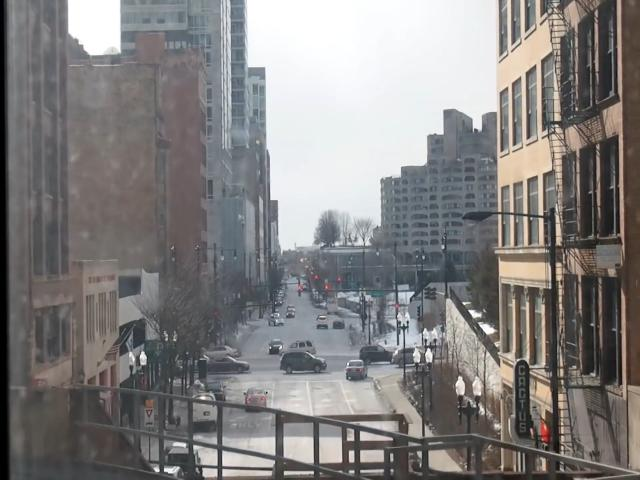signal light: (298, 286, 304, 300), (396, 302, 400, 320), (325, 286, 330, 299), (315, 275, 320, 287), (338, 278, 342, 288)
